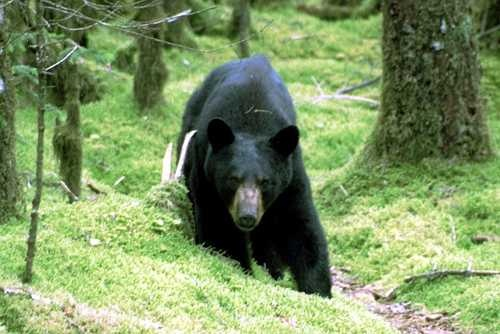bear: (186, 103, 314, 231)
